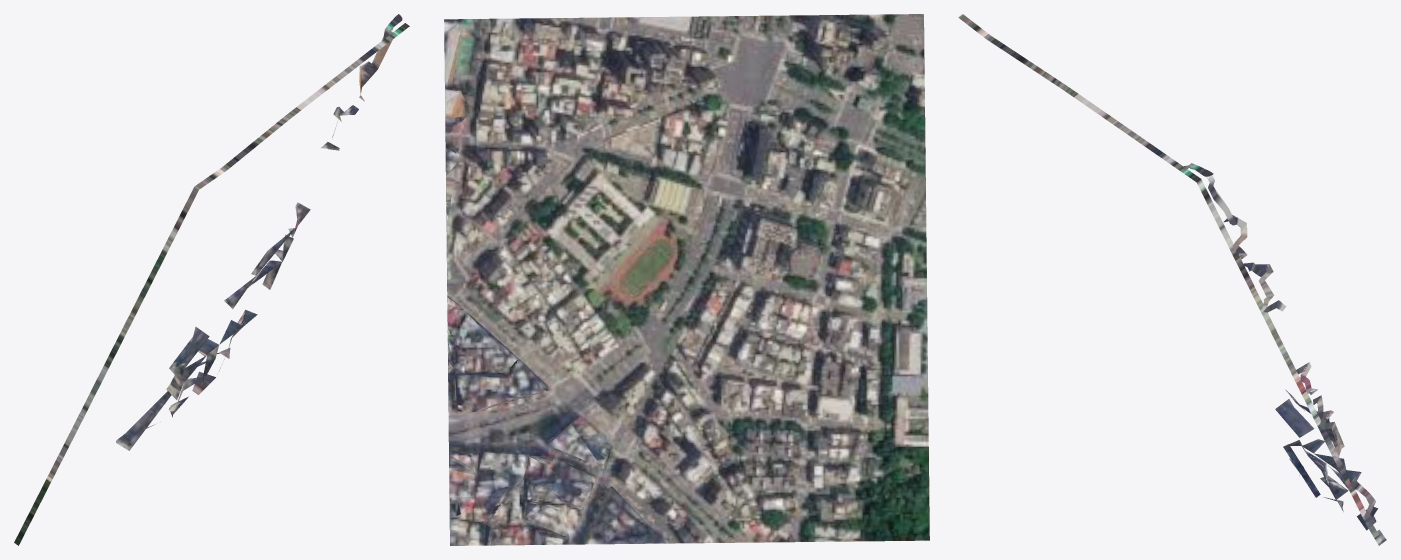
The picture shows the model from 3 angles, left to right: view 1: azimuth 30°, elevation 25°; view 2: azimuth 150°, elevation 25°; view 3: azimuth 270°, elevation 25°; orthographic projection. The views are drawn at different scales.
Bounding box in the file's own units: 611 × 561 × 521.
Materials: 1 (1 with a texture image).
